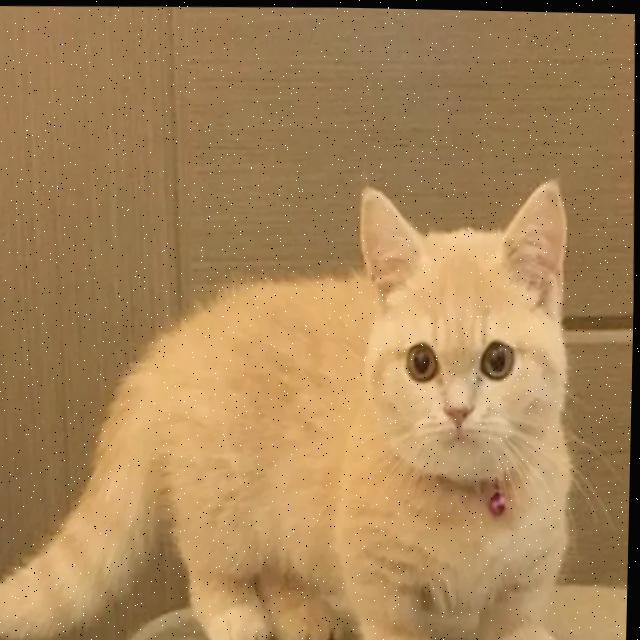Munchkin: (0, 161, 585, 640)
